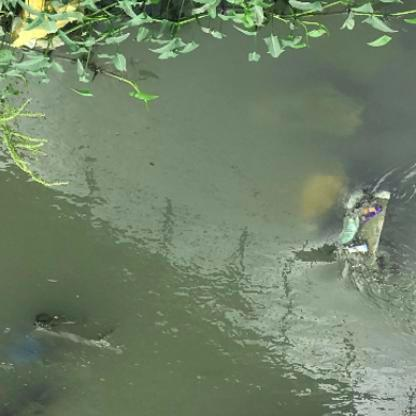Trash: (328, 240, 370, 264), (356, 200, 383, 226)
